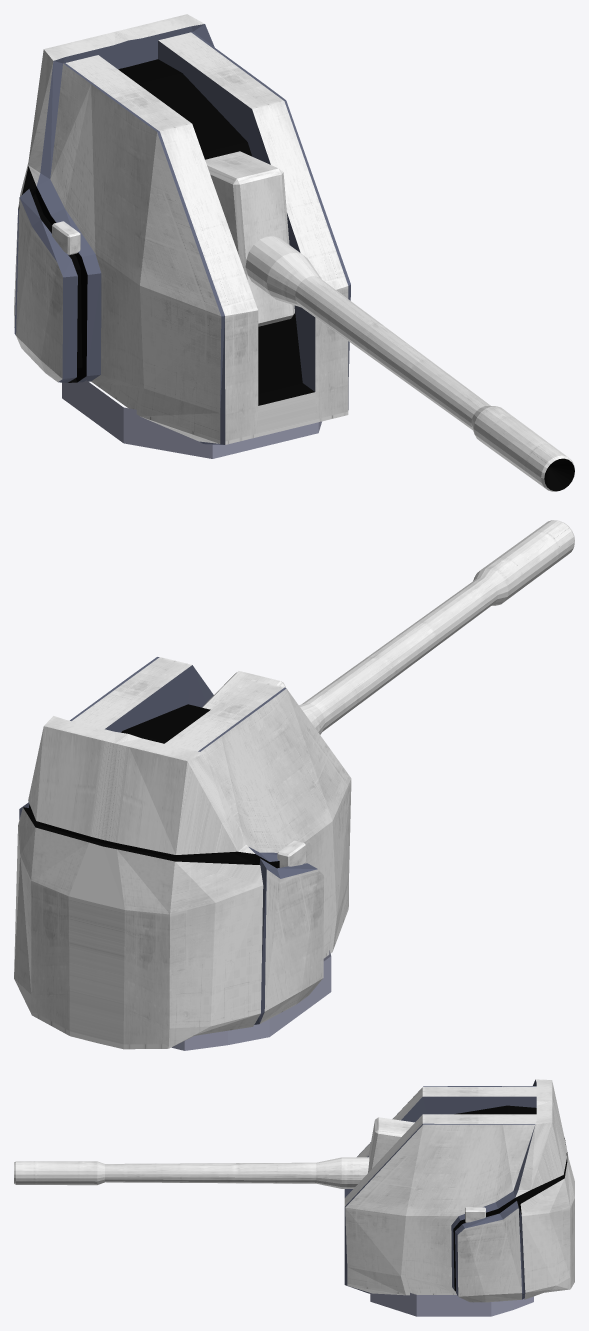
The model's file is turret.fbx.
The picture shows the model from 3 angles, top to bottom: view 1: azimuth 30°, elevation 25°; view 2: azimuth 150°, elevation 25°; view 3: azimuth 270°, elevation 25°; orthographic projection. The views are drawn at different scales.
Parts seen in each view (by area): view 1: サラミス級宇宙戦艦 オリジン_mesh.001; view 2: サラミス級宇宙戦艦 オリジン_mesh.001; view 3: サラミス級宇宙戦艦 オリジン_mesh.001.
Boxes of the visible parts, bbox=[...] form: サラミス級宇宙戦艦 オリジン_mesh.001: bbox=[14, 14, 574, 491]; サラミス級宇宙戦艦 オリジン_mesh.001: bbox=[14, 520, 574, 1050]; サラミス級宇宙戦艦 オリジン_mesh.001: bbox=[14, 1079, 574, 1316].
Size of the model in its own units: 230 by 258 by 708.
